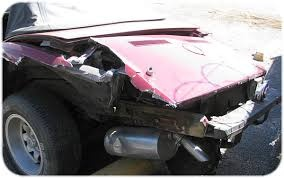Broken-glass: (92, 62, 145, 111)
Smashed: (2, 34, 180, 145)
